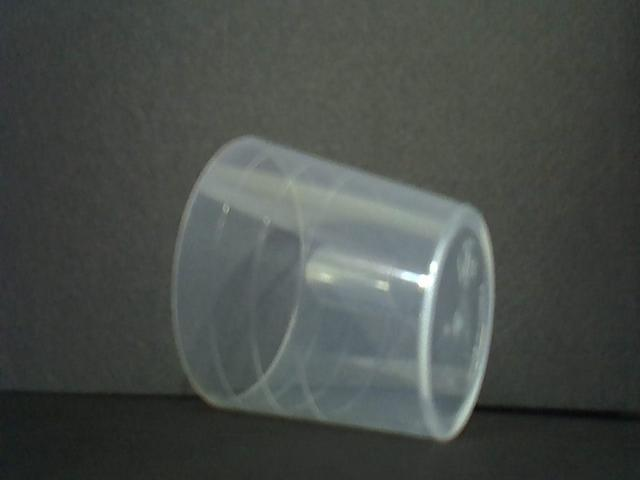cup: (170, 132, 499, 442)
